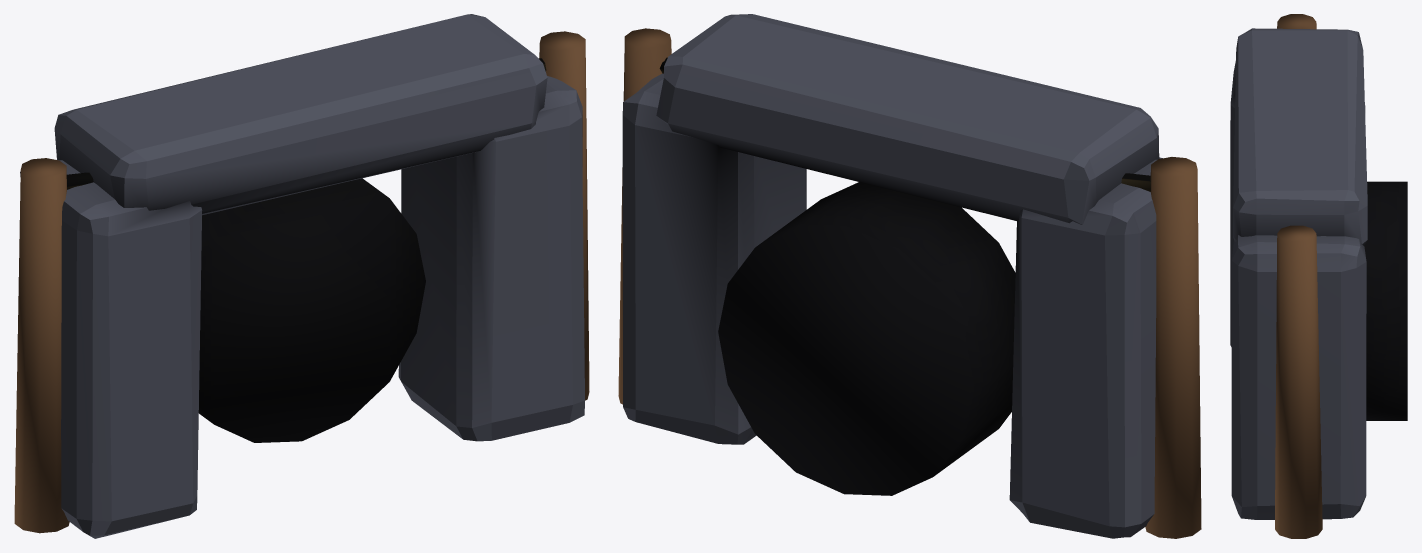
The model's file is cave_gate.glb.
3 renders of one model, left to right at view 1: azimuth 30°, elevation 25°; view 2: azimuth 150°, elevation 25°; view 3: azimuth 270°, elevation 25°, orthographic. The views are drawn at different scales.
Visible parts, largest first — view 1: cave_gate; view 2: cave_gate; view 3: cave_gate.
Boxes of the visible parts, bbox=[...] form: cave_gate: bbox=[14, 14, 589, 538]; cave_gate: bbox=[618, 14, 1201, 538]; cave_gate: bbox=[1230, 14, 1407, 538].
Size of the model in its own units: 2.51 by 1.6 by 0.8144.
